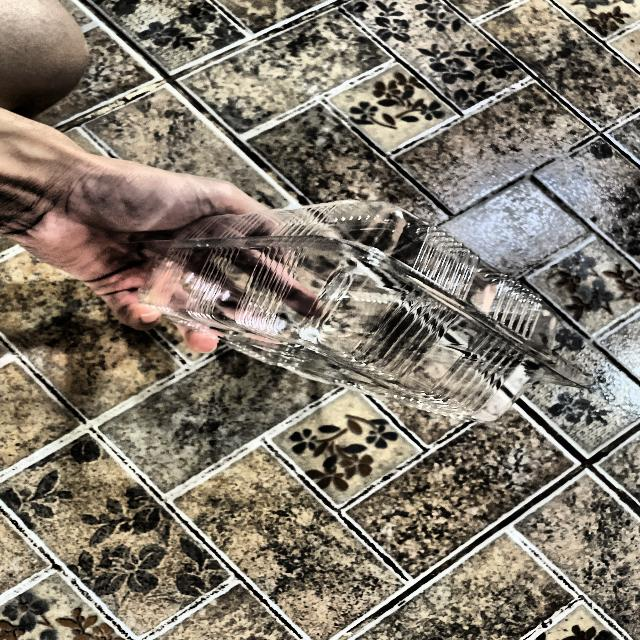plastic container: (102, 172, 564, 442)
